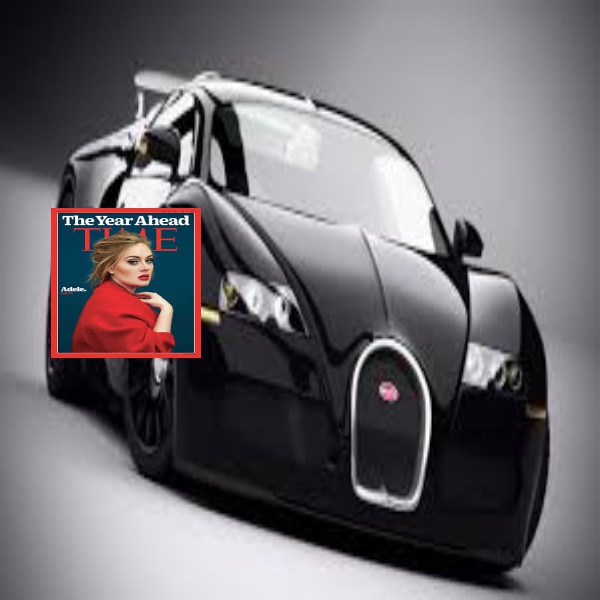time_cover: (52, 209, 218, 360)
